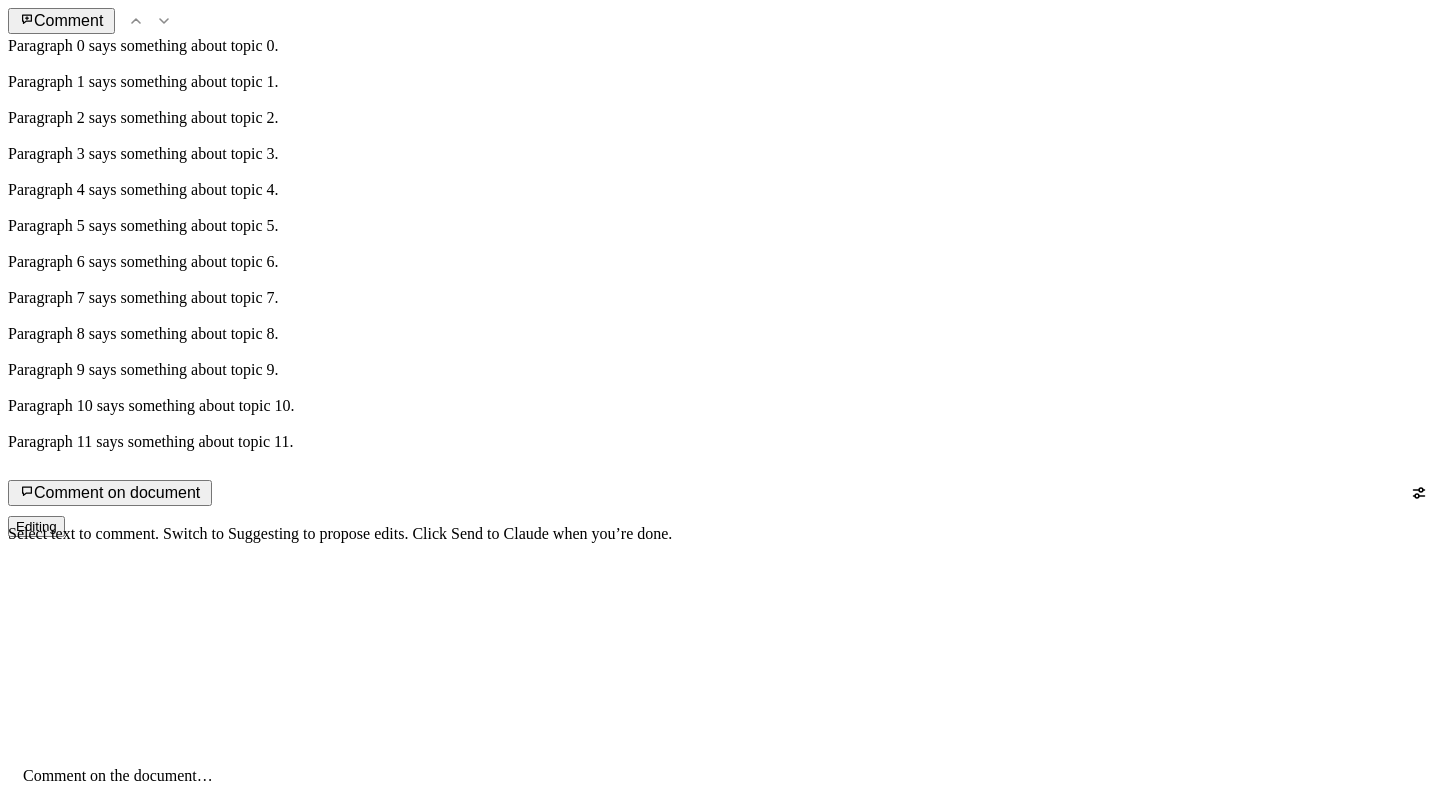
Test: the composer and the reply box show it › a refusal with a reason keeps the reason
The width and height of the screenshot is (1440, 810).
Step 1. Click the button "Comment" → (62, 21), box [8,8,115,34]
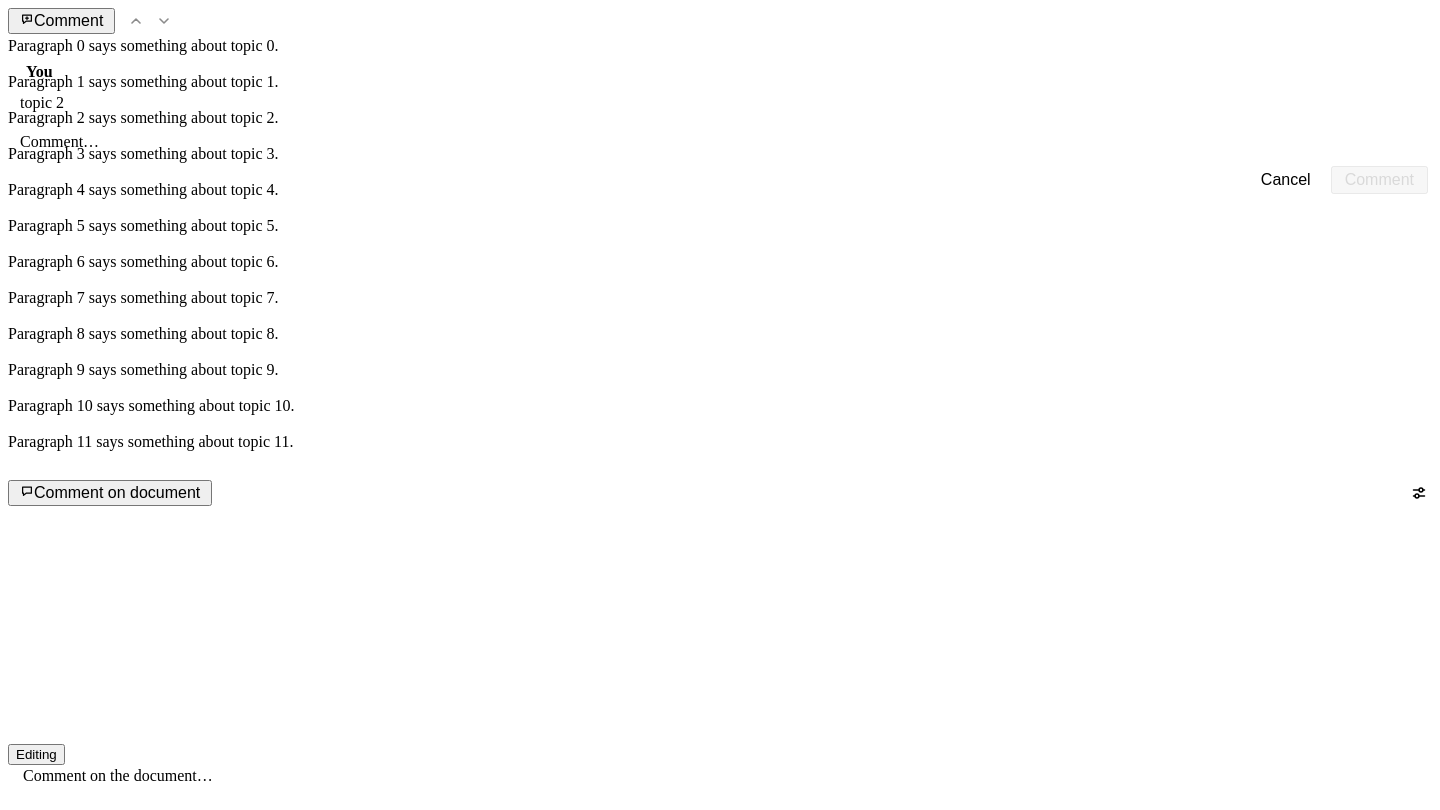
Step 2. Type "x" into the text box with placeholder "Comment…" → (720, 142), box [12,124,1428,160]
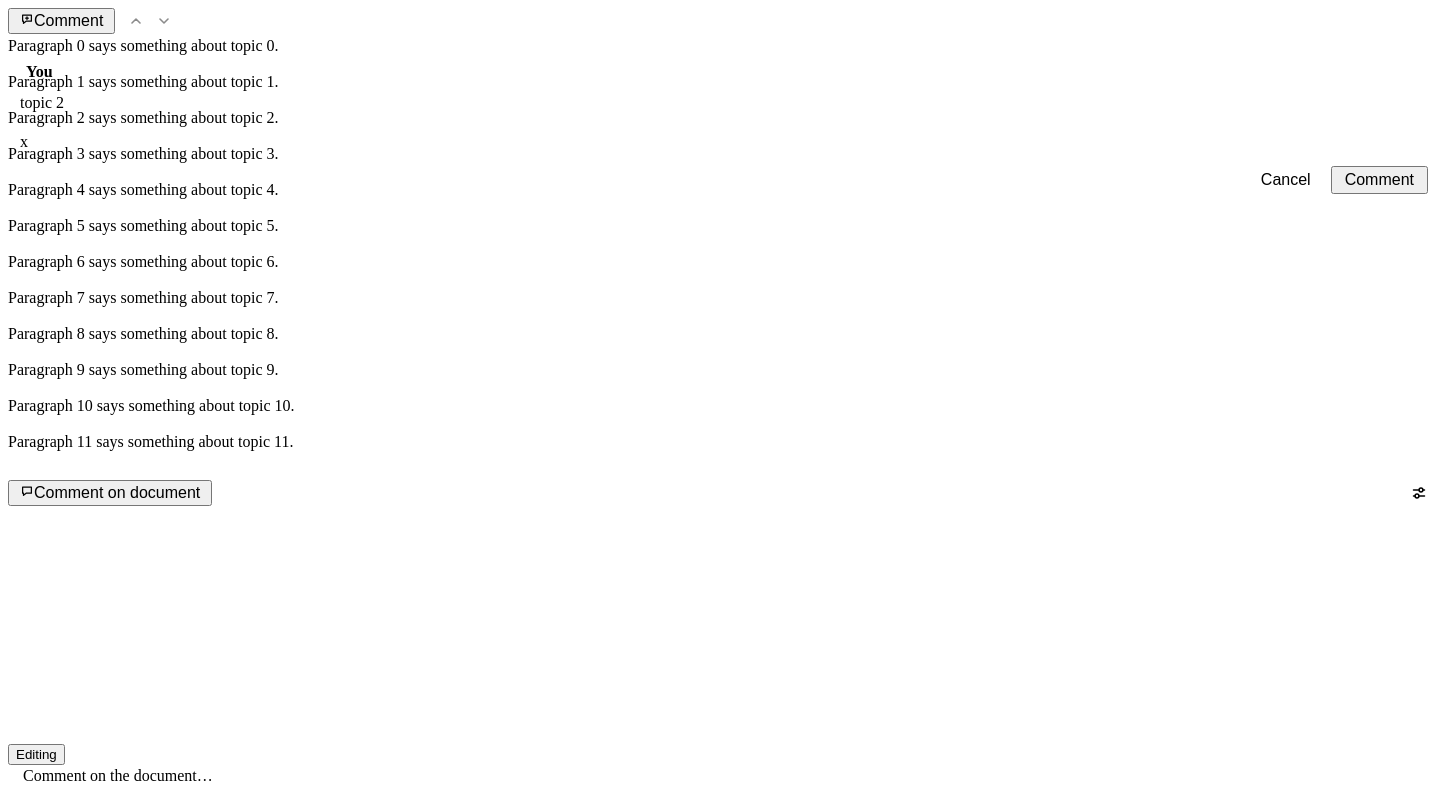
Step 3. Click the 2nd button "Comment" → (1379, 180), box [1331,166,1428,194]
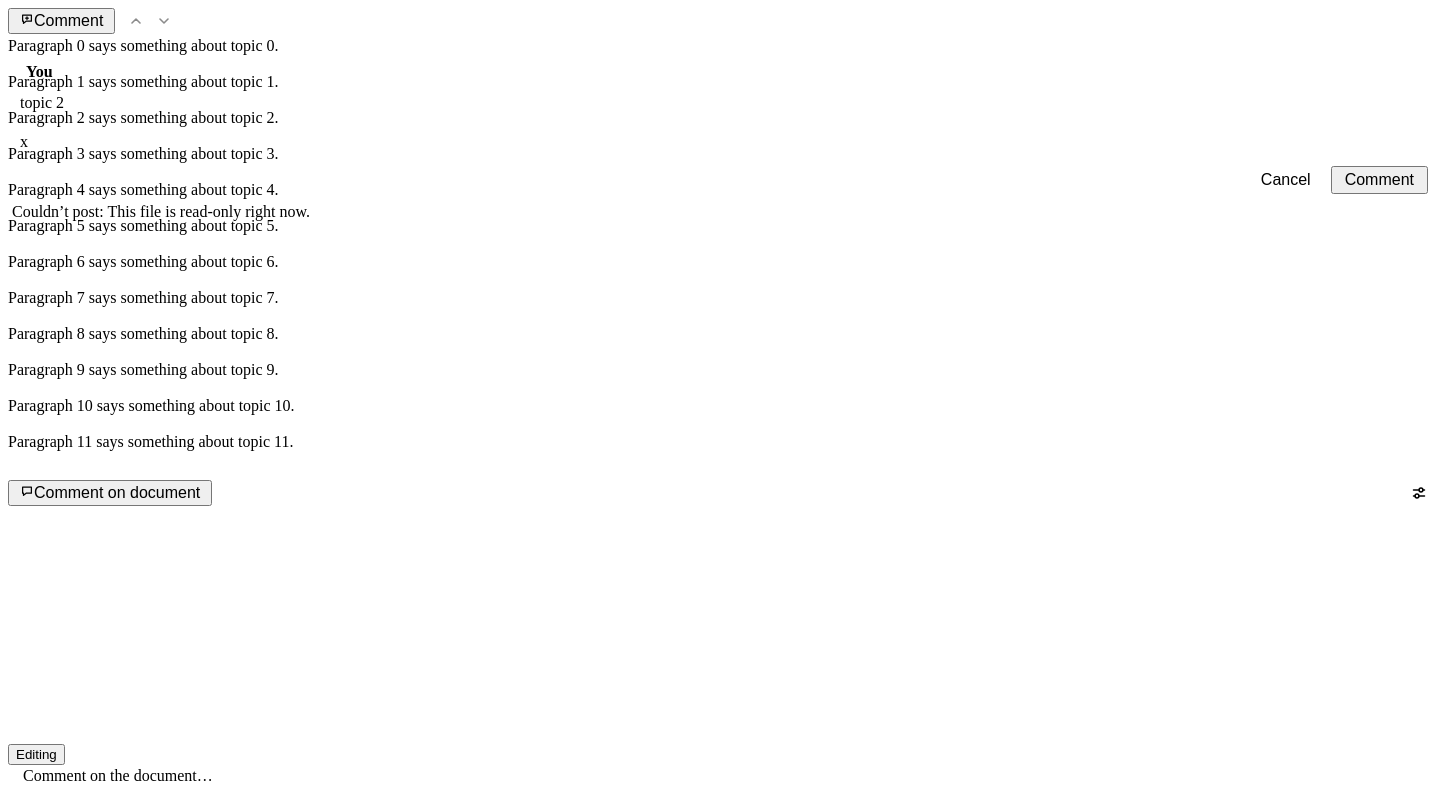
Expected: the message with class "mdr-composer-error" reads "Couldn’t post: This file is read-only right now.", [12,203,310,220]
